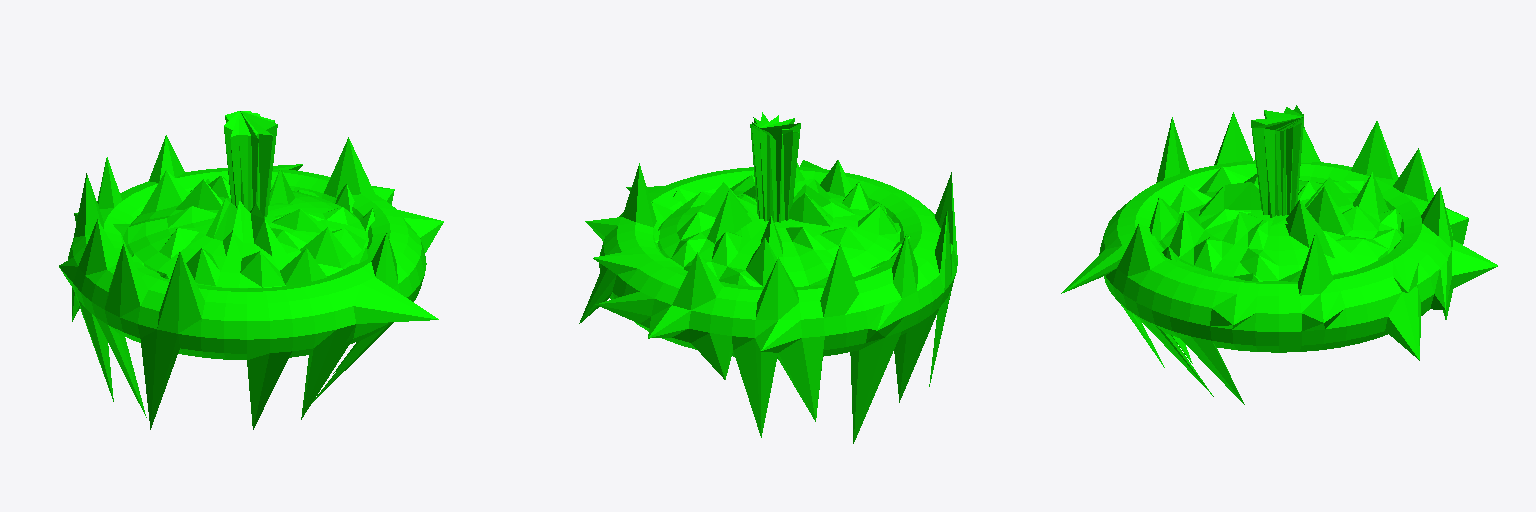
The model's file is lvl_2.obj.
3 views of the same model, side by side, from view 1: azimuth 30°, elevation 25°; view 2: azimuth 150°, elevation 25°; view 3: azimuth 270°, elevation 25° (orthographic).
Visible parts, largest first — view 1: Torus, Sphere, Cylinder; view 2: Torus, Sphere, Cylinder; view 3: Torus, Sphere, Cylinder.
Boxes of the visible parts, x1=… form: Torus: x1=59, y1=135, x2=443, y2=429; Sphere: x1=113, y1=168, x2=374, y2=288; Cylinder: x1=224, y1=111, x2=277, y2=218; Torus: x1=579, y1=160, x2=957, y2=443; Sphere: x1=652, y1=160, x2=910, y2=286; Cylinder: x1=750, y1=112, x2=800, y2=222; Torus: x1=1061, y1=112, x2=1497, y2=404; Sphere: x1=1149, y1=166, x2=1402, y2=281; Cylinder: x1=1251, y1=105, x2=1303, y2=217.
Size of the model in its own units: 2.66 by 2.15 by 3.05.